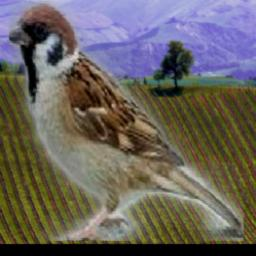Sparrow: (9, 2, 244, 242)
